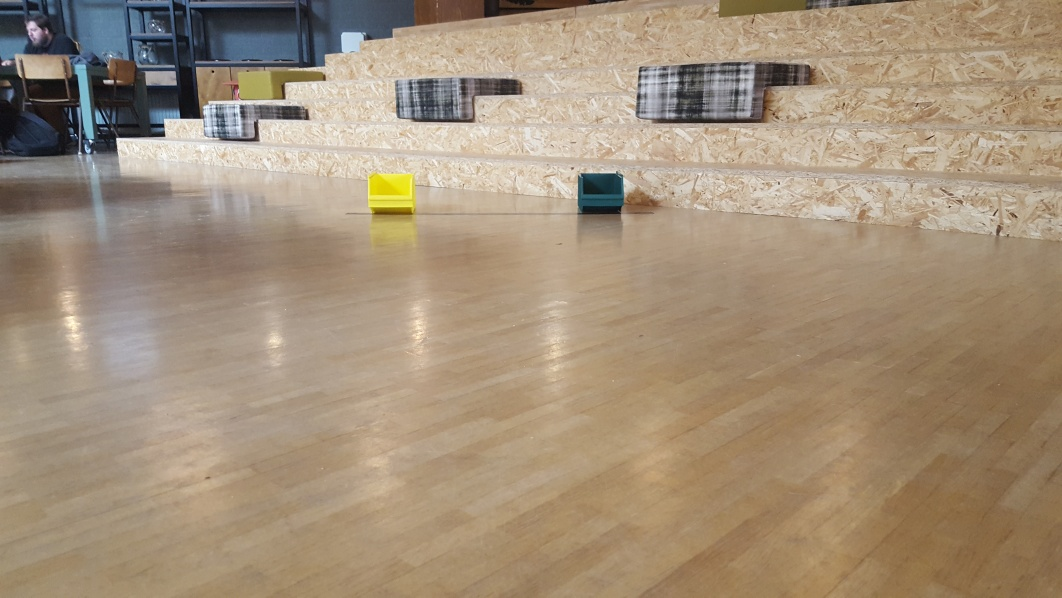tray: (573, 168, 627, 214), (367, 171, 416, 214)
